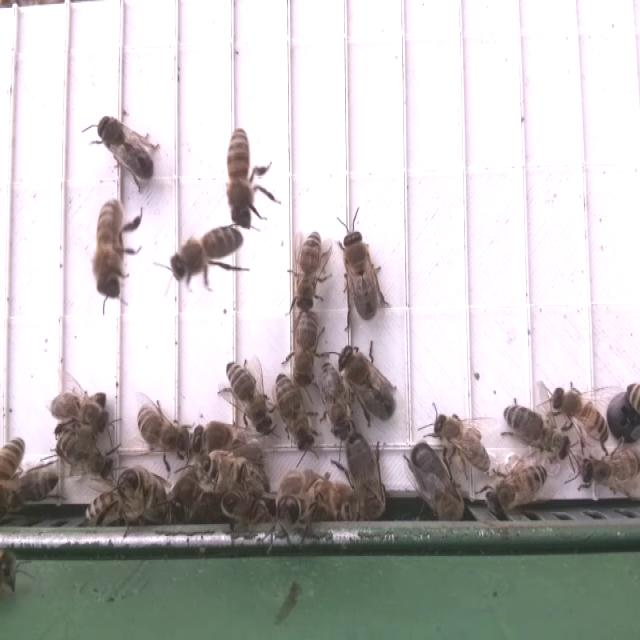Drone: (336, 339, 401, 431), (409, 440, 466, 522), (95, 112, 157, 186), (337, 225, 381, 322), (343, 432, 389, 519)
Worker: (499, 399, 579, 467), (219, 353, 281, 439), (542, 378, 613, 452), (167, 226, 246, 282), (192, 442, 267, 500), (430, 411, 492, 476), (90, 196, 128, 302), (486, 457, 551, 516), (316, 360, 362, 441), (113, 464, 173, 526), (273, 471, 323, 545), (274, 373, 317, 458), (55, 432, 121, 486), (135, 397, 189, 461), (226, 123, 258, 230), (574, 452, 640, 498), (291, 225, 325, 314), (49, 390, 112, 436), (288, 305, 322, 388)
